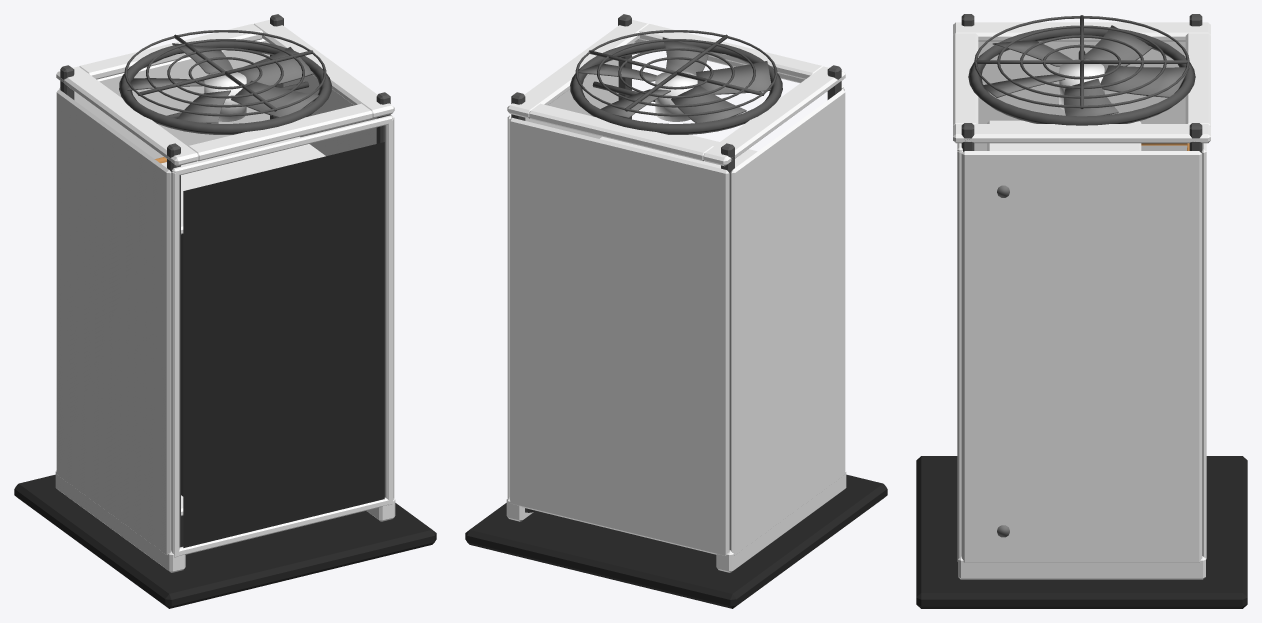
File: cooling.glb
The picture shows the model from 3 angles, left to right: view 1: azimuth 30°, elevation 25°; view 2: azimuth 150°, elevation 25°; view 3: azimuth 270°, elevation 25°; orthographic projection. The views are drawn at different scales.
Visible parts, largest first — view 1: GN_COOLER_PANEL_Grille, GN_COOLER_FRAME_Graphite, GN_COOLER_FRAME_Platform, GN_COOLER_PANEL_Graphite, GN_SPECIMEN_FAN_ROTOR, GN_COOLER_GUARD_Steel, GN_COOLER_FAN_Steel, GN_COOLER_COIL_Graphite, GN_COOLER_FRAME_Steel, GN_COOLER_FAN_Graphite, GN_COOLER_COIL_Steel; view 2: GN_COOLER_FRAME_Graphite, GN_COOLER_FRAME_Platform, GN_SPECIMEN_FAN_ROTOR, GN_COOLER_GUARD_Steel, GN_COOLER_FAN_Steel, GN_COOLER_PANEL_Graphite, GN_COOLER_FRAME_Steel, GN_COOLER_FAN_Graphite, GN_COOLER_COIL_Graphite; view 3: GN_COOLER_PANEL_Graphite, GN_COOLER_FRAME_Graphite, GN_COOLER_FRAME_Platform, GN_SPECIMEN_FAN_ROTOR, GN_COOLER_GUARD_Steel, GN_COOLER_FAN_Steel, GN_COOLER_COIL_Graphite, GN_COOLER_FRAME_Steel, GN_COOLER_FAN_Graphite.
Boxes of the visible parts, <box> form: GN_COOLER_PANEL_Grille: <box>183,142,384,547</box>; GN_COOLER_FRAME_Graphite: <box>55,20,395,572</box>; GN_COOLER_FRAME_Platform: <box>14,474,436,608</box>; GN_COOLER_PANEL_Graphite: <box>171,75,394,557</box>; GN_SPECIMEN_FAN_ROTOR: <box>127,43,318,123</box>; GN_COOLER_GUARD_Steel: <box>124,30,326,116</box>; GN_COOLER_FAN_Steel: <box>119,40,331,134</box>; GN_COOLER_COIL_Graphite: <box>161,136,325,515</box>; GN_COOLER_FRAME_Steel: <box>60,14,390,547</box>; GN_COOLER_FAN_Graphite: <box>204,70,246,121</box>; GN_COOLER_COIL_Steel: <box>181,234,183,496</box>; GN_COOLER_FRAME_Graphite: <box>506,20,846,572</box>; GN_COOLER_FRAME_Platform: <box>465,474,887,608</box>; GN_SPECIMEN_FAN_ROTOR: <box>578,37,771,122</box>; GN_COOLER_GUARD_Steel: <box>575,30,777,116</box>; GN_COOLER_FAN_Steel: <box>570,40,782,134</box>; GN_COOLER_PANEL_Graphite: <box>507,38,844,498</box>; GN_COOLER_FRAME_Steel: <box>511,14,841,550</box>; GN_COOLER_FAN_Graphite: <box>655,70,697,121</box>; GN_COOLER_COIL_Graphite: <box>600,134,757,168</box>; GN_COOLER_PANEL_Graphite: <box>957,143,1202,562</box>; GN_COOLER_FRAME_Graphite: <box>953,22,1210,579</box>; GN_COOLER_FRAME_Platform: <box>916,456,1247,608</box>; GN_SPECIMEN_FAN_ROTOR: <box>983,25,1189,116</box>; GN_COOLER_GUARD_Steel: <box>974,15,1189,108</box>; GN_COOLER_FAN_Steel: <box>968,27,1195,125</box>; GN_COOLER_COIL_Graphite: <box>987,120,1141,150</box>; GN_COOLER_FRAME_Steel: <box>961,14,1202,152</box>; GN_COOLER_FAN_Graphite: <box>1059,59,1104,110</box>.
Bounding box in the file's own units: 1.32 × 2.09 × 1.31.
7 materials, 7 textured.
